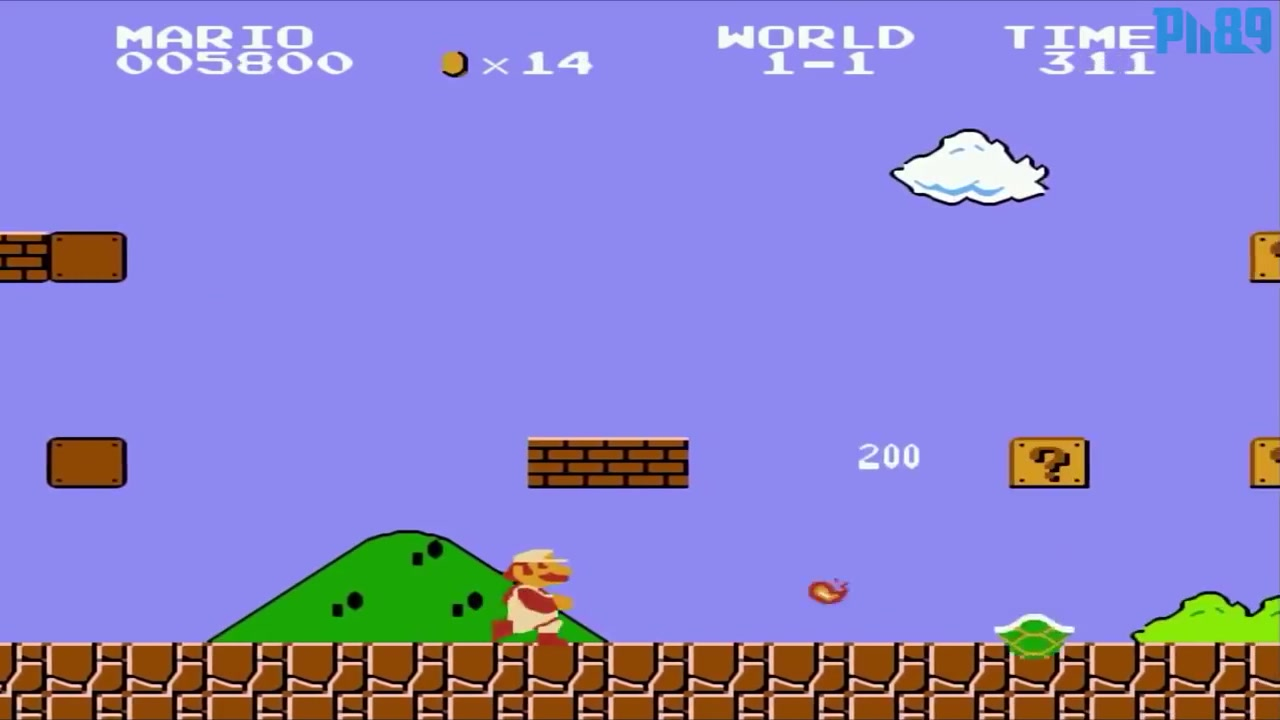mario: (486, 546, 580, 642)
